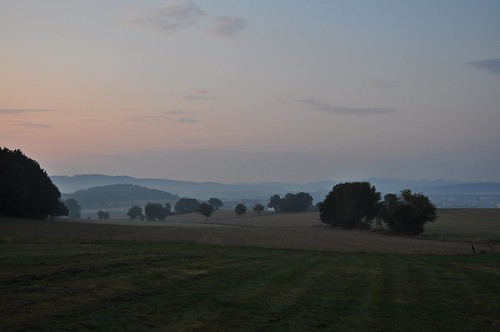grass: (5, 224, 500, 332)
sky: (1, 1, 496, 173)
tree: (382, 183, 440, 239), (322, 174, 378, 231)
